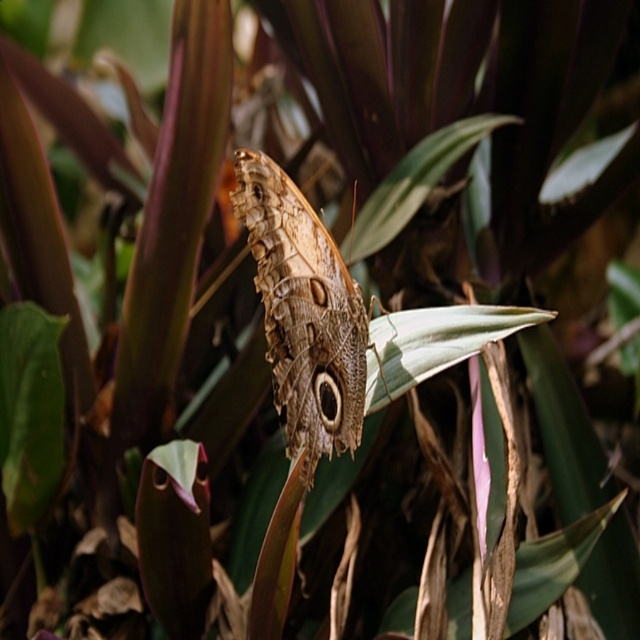Butterfly: (227, 148, 399, 484)
